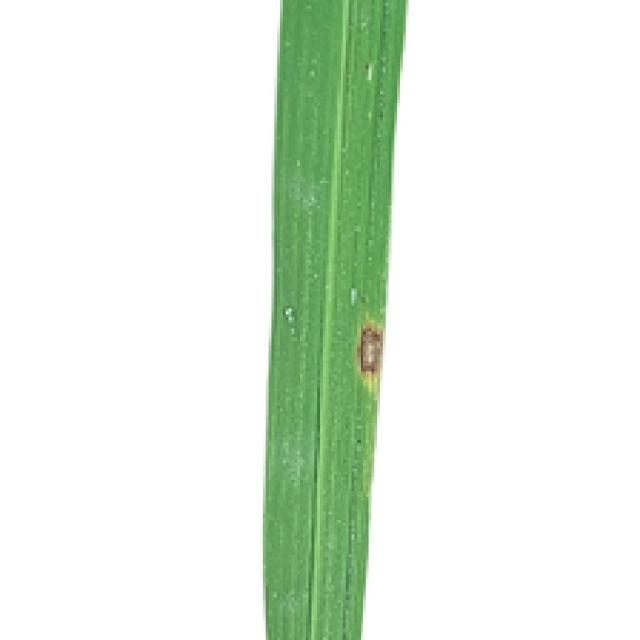Rice___Rice_Blast: (261, 0, 410, 637)
